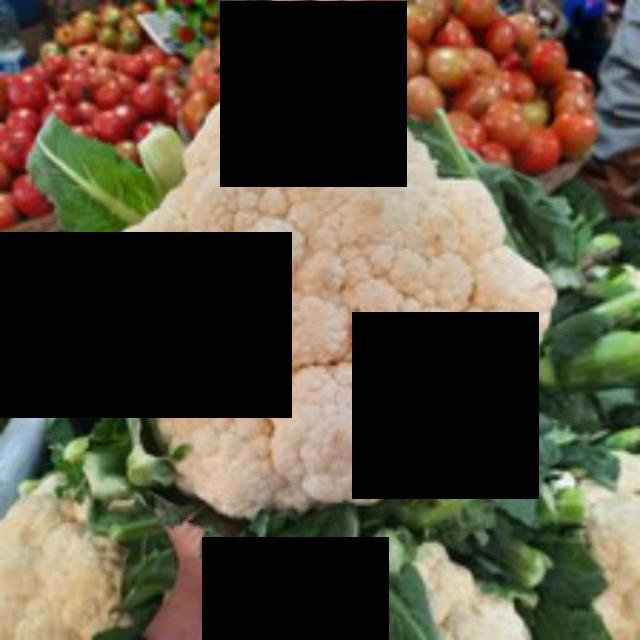cauliflower: (66, 89, 568, 536)
